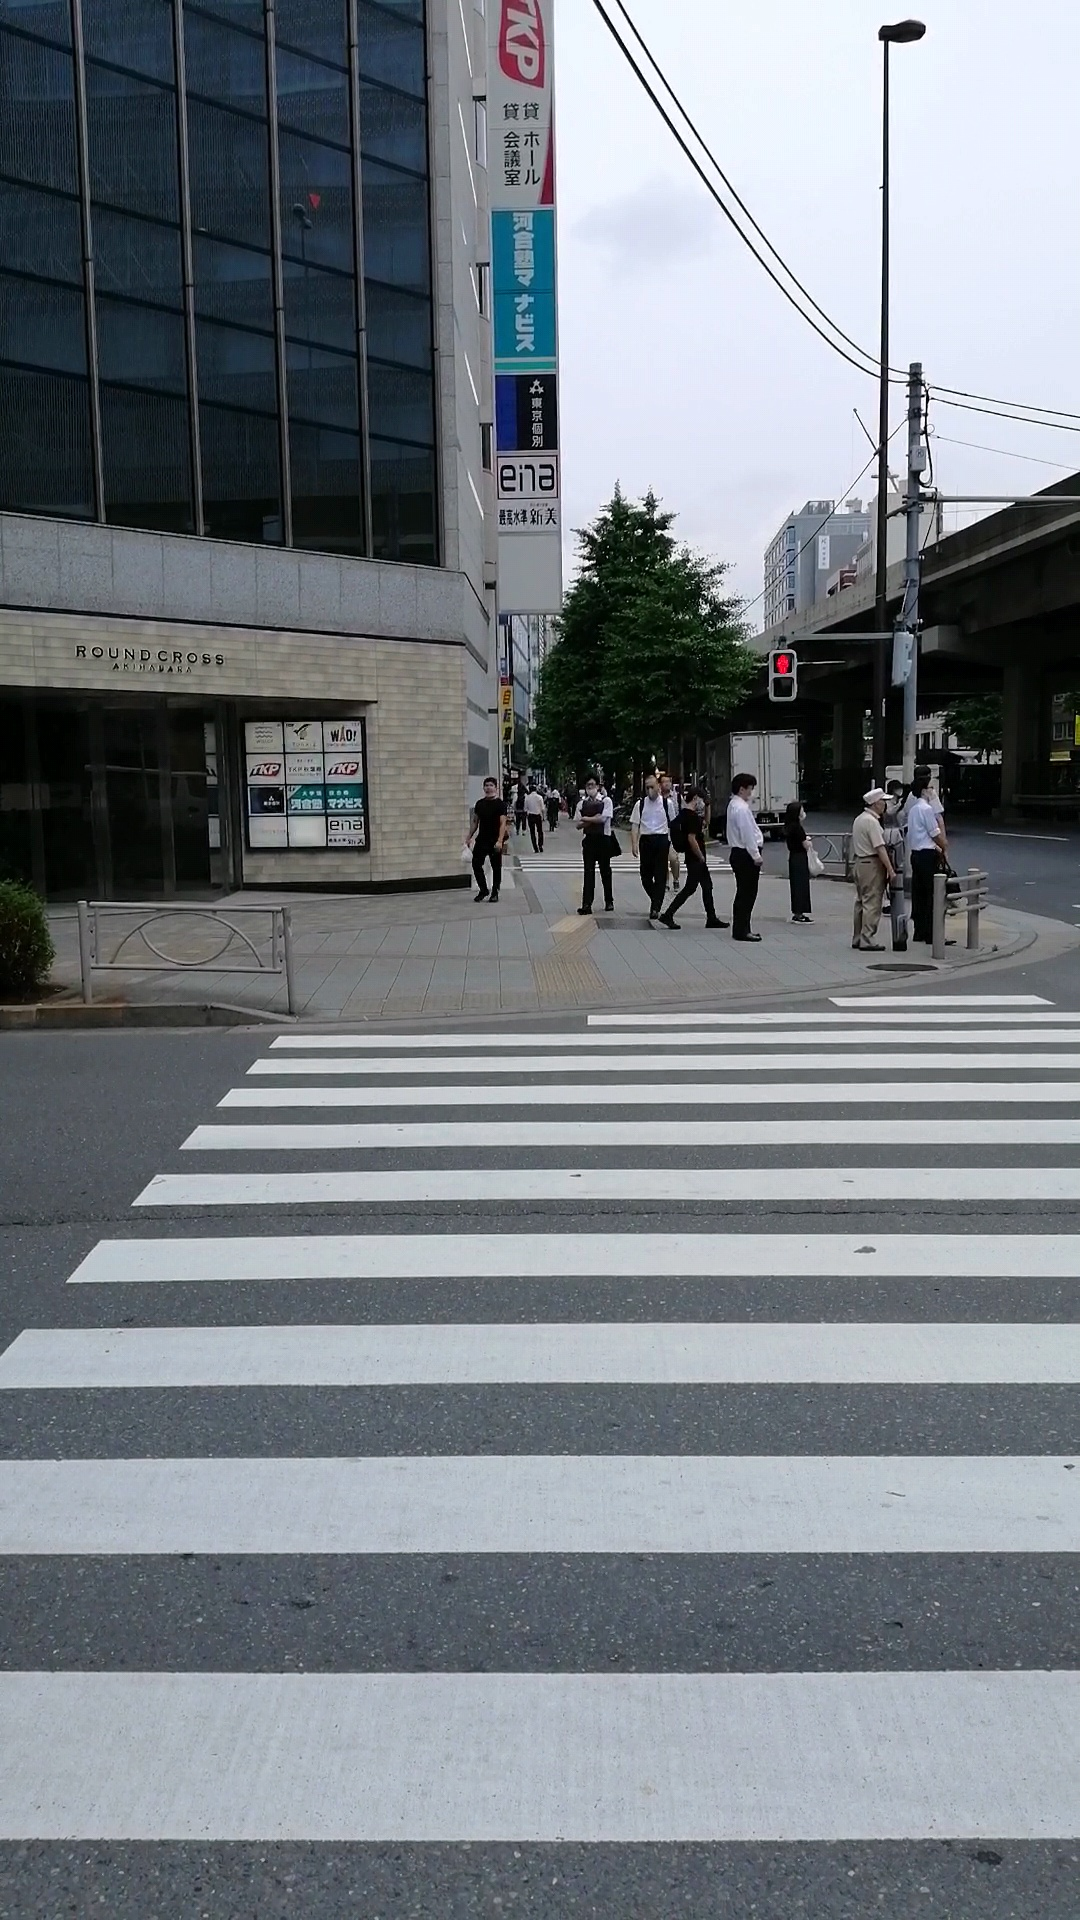red: (767, 649, 796, 702)
